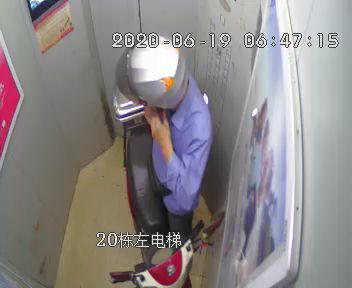Electric-bicycle: (111, 87, 227, 286)
